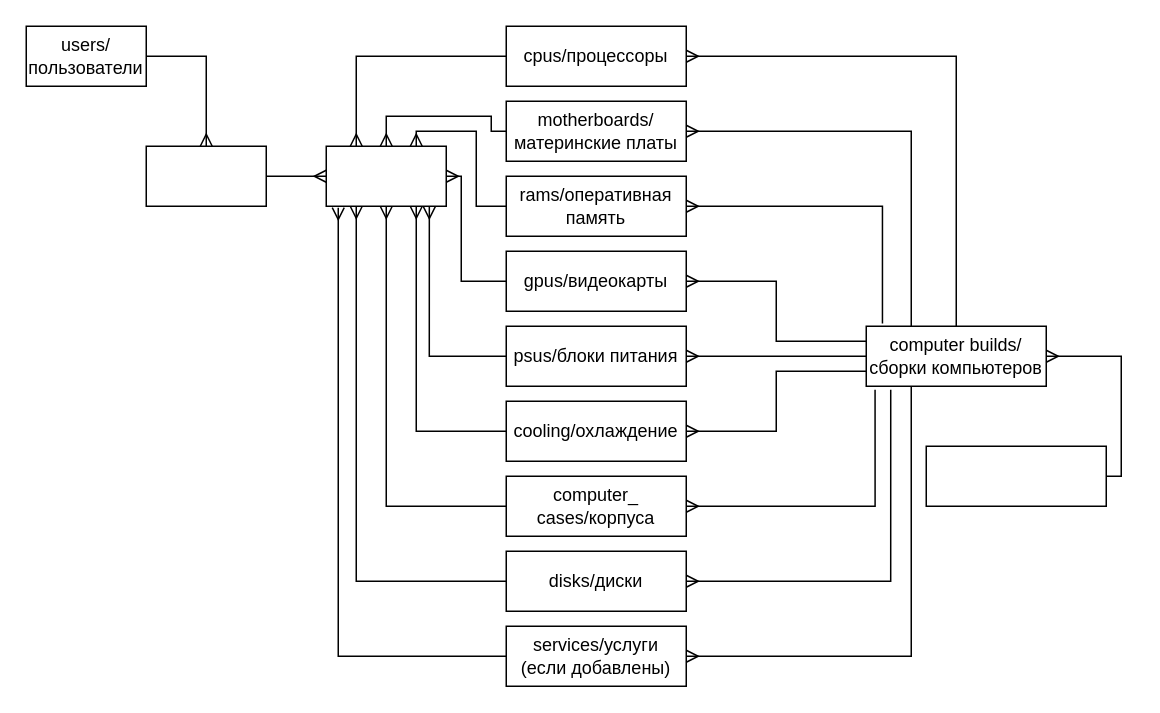
Some shapes in this 1160 by 713 pixel diagram are drawn without their labels. Here are the shapes that lost their labels. From the top down, the centre of each, then its label:
At pixel 205 175: "orders/заказ".
At pixel 385 175: "positions/позиции".
At pixel 1015 475: "Configurations/Конфигурации".
